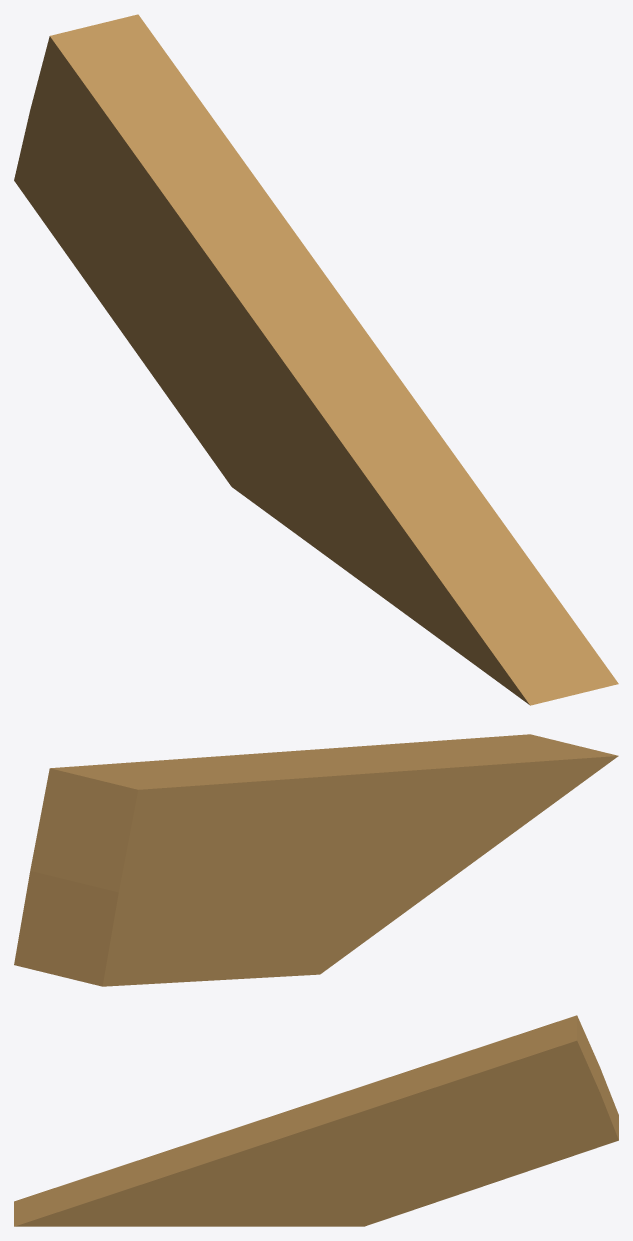
The picture shows the model from 3 angles, top to bottom: view 1: azimuth 30°, elevation 25°; view 2: azimuth 150°, elevation 25°; view 3: azimuth 270°, elevation 25°; orthographic projection. The views are drawn at different scales.
Visible parts, largest first — view 1: L1-3-S2-310-M07; view 2: L1-3-S2-310-M07; view 3: L1-3-S2-310-M07.
Boxes of the visible parts, <box> form: L1-3-S2-310-M07: <box>14,14,618,705</box>; L1-3-S2-310-M07: <box>14,734,618,986</box>; L1-3-S2-310-M07: <box>14,1015,618,1226</box>.
Bounding box in the file's own units: 0.045 × 0.1543 × 0.4543.
